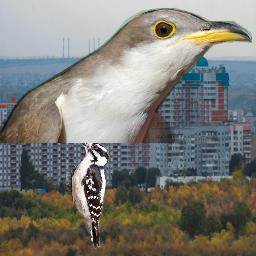Cuckoo: (0, 8, 252, 143)
Woodpecker: (66, 139, 110, 251)
